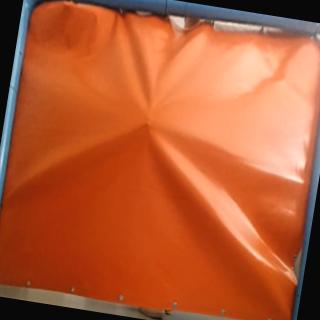Hit-hRxx: (144, 120, 154, 128)
